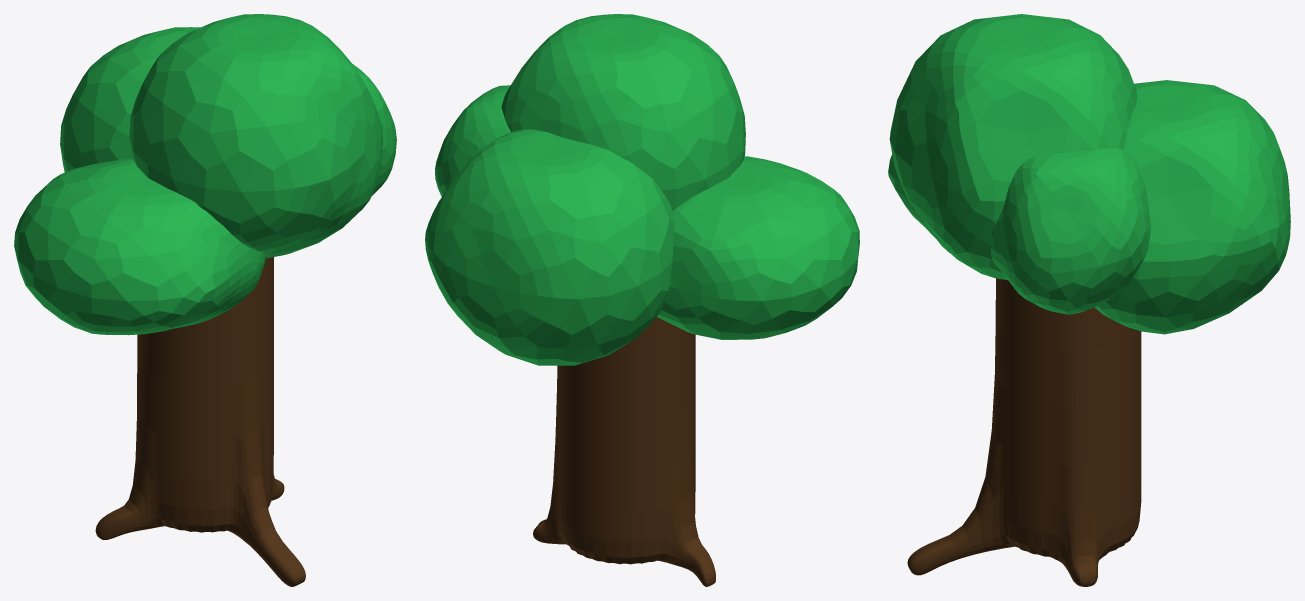
Rendered from Tree.fbx.
3 renders of one model, left to right at view 1: azimuth 30°, elevation 25°; view 2: azimuth 150°, elevation 25°; view 3: azimuth 270°, elevation 25°, orthographic. The views are drawn at different scales.
Parts seen in each view (by area): view 1: Leaves.001, TreeTrunk.001; view 2: Leaves.001, TreeTrunk.001; view 3: Leaves.001, TreeTrunk.001.
Boxes of the visible parts, x1=… form: Leaves.001: x1=14, y1=14, x2=396, y2=335; TreeTrunk.001: x1=95, y1=257, x2=305, y2=586; Leaves.001: x1=425, y1=14, x2=859, y2=365; TreeTrunk.001: x1=533, y1=316, x2=715, y2=586; Leaves.001: x1=888, y1=14, x2=1290, y2=334; TreeTrunk.001: x1=907, y1=278, x2=1141, y2=586.
Size of the model in its own units: 627 by 819 by 550.
